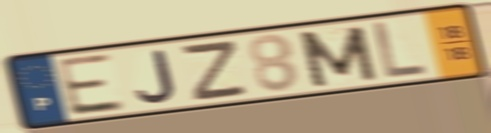8: (246, 31, 303, 96)
E: (53, 51, 129, 119)
J: (133, 48, 179, 105)
L: (370, 19, 429, 80)
M: (294, 23, 382, 90)
Z: (181, 37, 251, 104)
